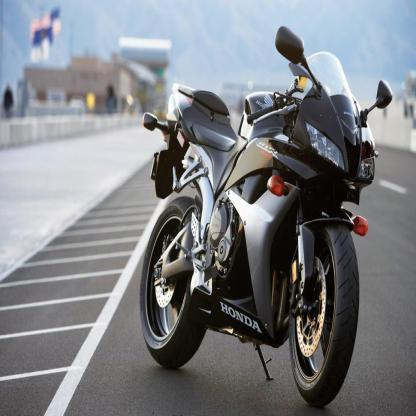Motorcycle: (131, 25, 396, 407)
